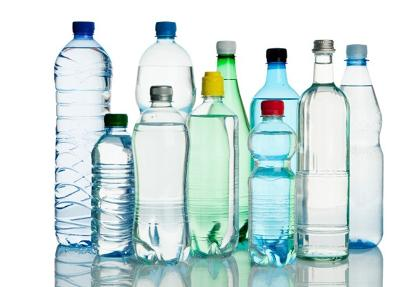Plastic Bottle: (244, 41, 308, 283), (56, 17, 112, 286), (341, 32, 395, 266), (132, 82, 192, 286), (303, 40, 353, 266), (210, 36, 262, 252), (139, 79, 195, 264)
